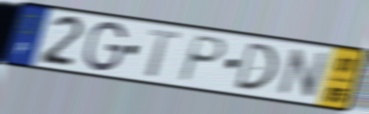2: (39, 14, 86, 70)
D: (232, 41, 279, 92)
G: (82, 20, 129, 73)
N: (274, 46, 333, 100)
P: (175, 33, 229, 84)
T: (145, 29, 183, 80)
